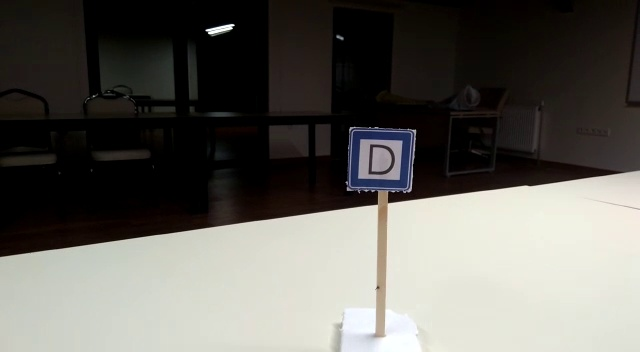durak: (346, 128, 414, 191)
